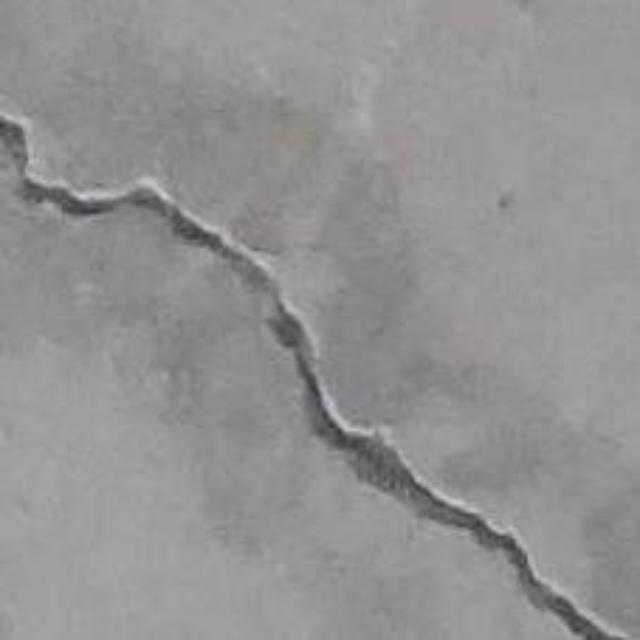crack: (0, 113, 631, 639)
